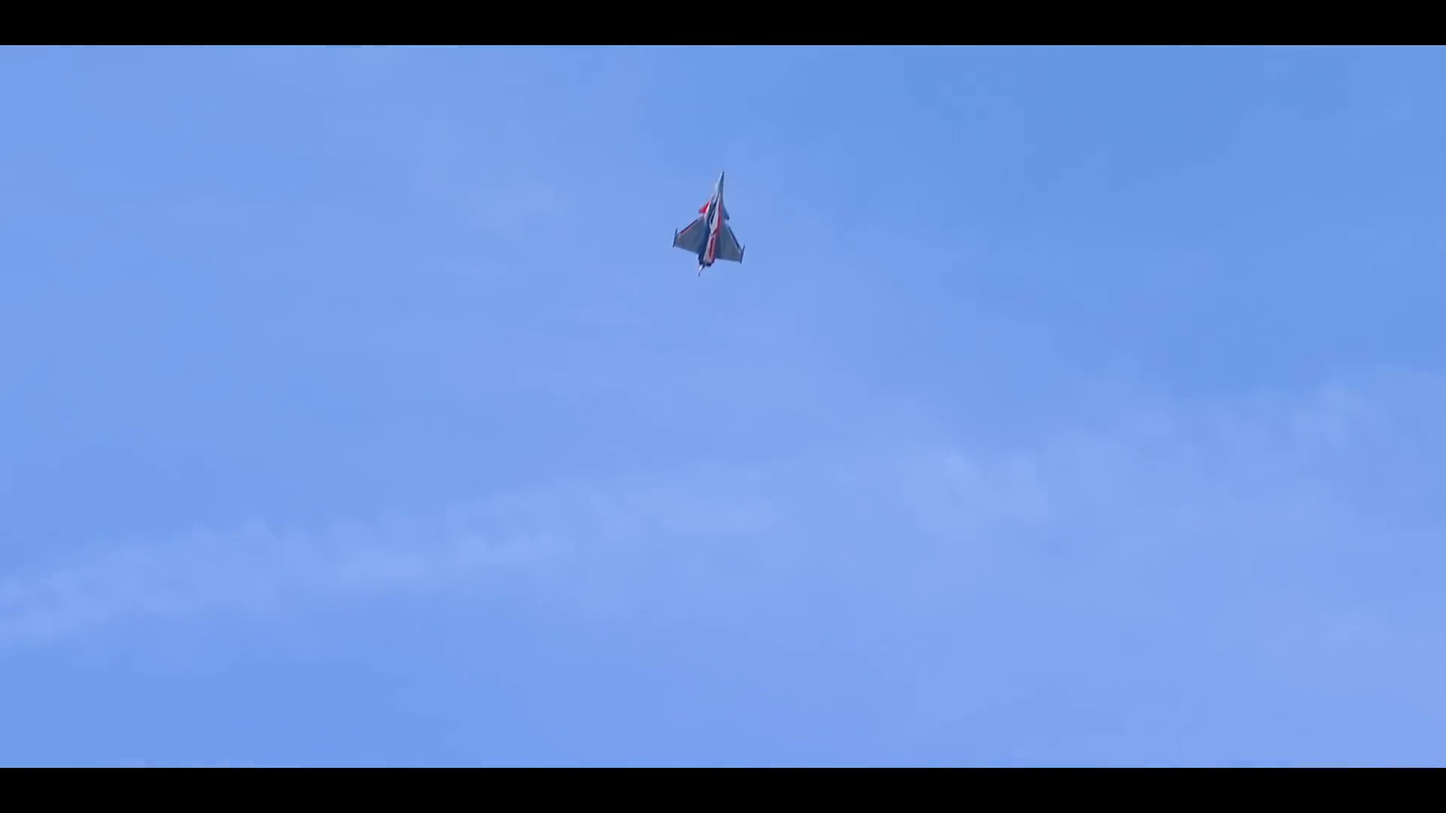Rafale: (672, 170, 744, 274)
